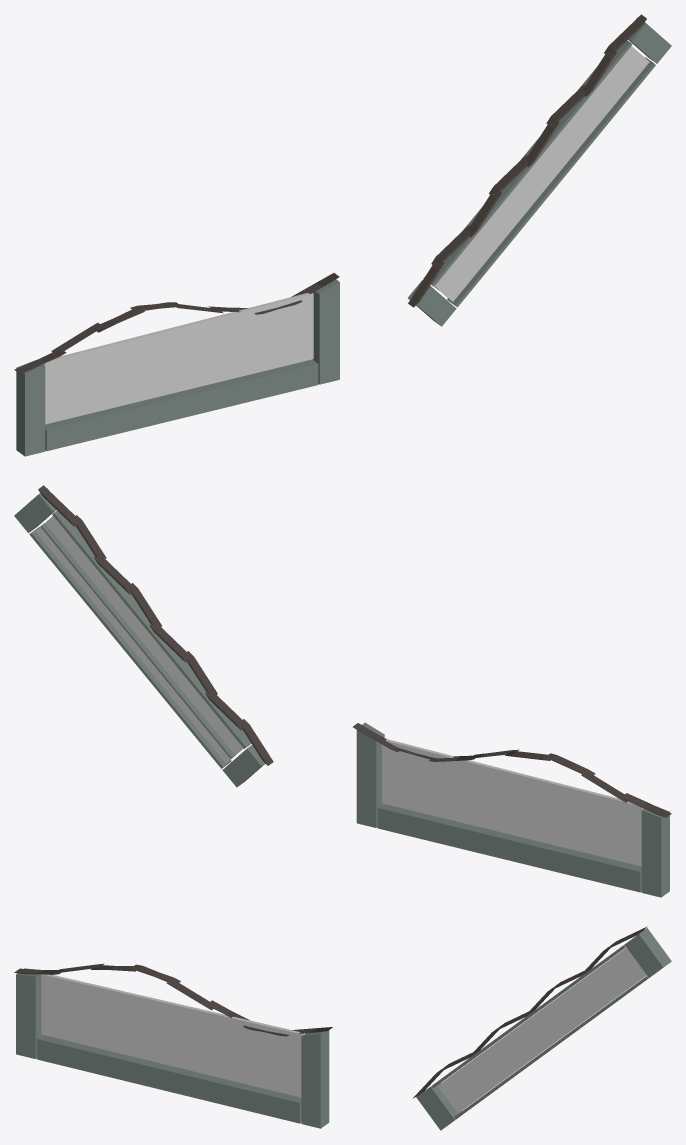
The model's file is SM_PuertaVia_v3_MallaEspino_e2_MuyDanado_LOD1.fbx.
3 views of the same model, one above another, from view 1: azimuth 30°, elevation 25°; view 2: azimuth 150°, elevation 25°; view 3: azimuth 330°, elevation 25° (orthographic). The views are drawn at different scales.
Parts seen in each view (by area): view 1: Hoja_O, Hoja_E; view 2: Hoja_O, Hoja_E; view 3: Hoja_O, Hoja_E.
Boxes of the visible parts, x1,y1,x2,y2 form: Hoja_O: [14, 273, 339, 456]; Hoja_E: [408, 14, 671, 326]; Hoja_O: [353, 722, 671, 897]; Hoja_E: [14, 485, 273, 787]; Hoja_O: [14, 963, 332, 1128]; Hoja_E: [413, 926, 671, 1130].
Size of what is drawn, in the model's own units: 5.21 by 2.06 by 0.295.
